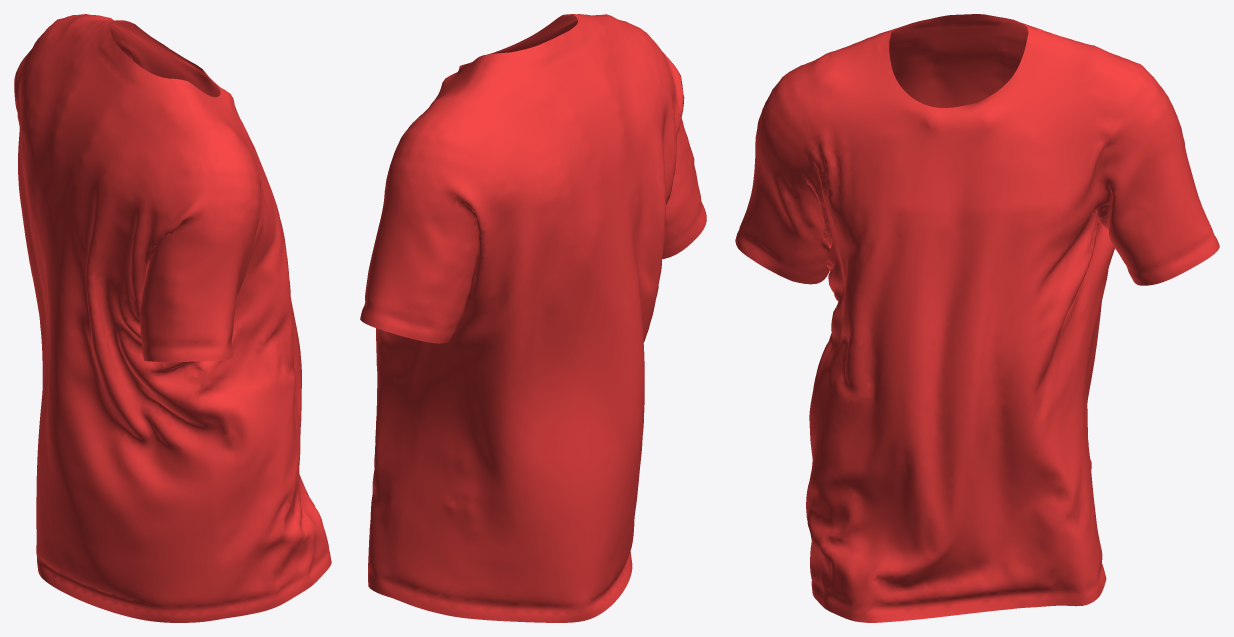
File: 1753963257721-lugaFata.glb
The picture shows the model from 3 angles, left to right: view 1: azimuth 30°, elevation 25°; view 2: azimuth 150°, elevation 25°; view 3: azimuth 270°, elevation 25°; orthographic projection. The views are drawn at different scales.
Visible parts, largest first — view 1: Material1722, Material1718, Material1724, Material1720; view 2: Material1722, Material1724, Material1718, Material1720; view 3: Material1718, Material1724, Material1722, Material1720.
Part boxes in pixels (<box>): Material1722: <box>14,14,223,622</box>; Material1718: <box>88,14,331,618</box>; Material1724: <box>16,29,260,362</box>; Material1720: <box>102,20,230,105</box>; Material1722: <box>392,14,677,622</box>; Material1724: <box>360,41,706,343</box>; Material1718: <box>368,14,629,597</box>; Material1720: <box>454,14,586,76</box>; Material1718: <box>776,35,1144,622</box>; Material1724: <box>735,75,1219,285</box>; Material1722: <box>783,20,1151,586</box>; Material1720: <box>876,14,1038,119</box>.
Bounding box in the file's own units: 32.85 × 70.89 × 56.91.
Materials: 4 (2 with a texture image).
